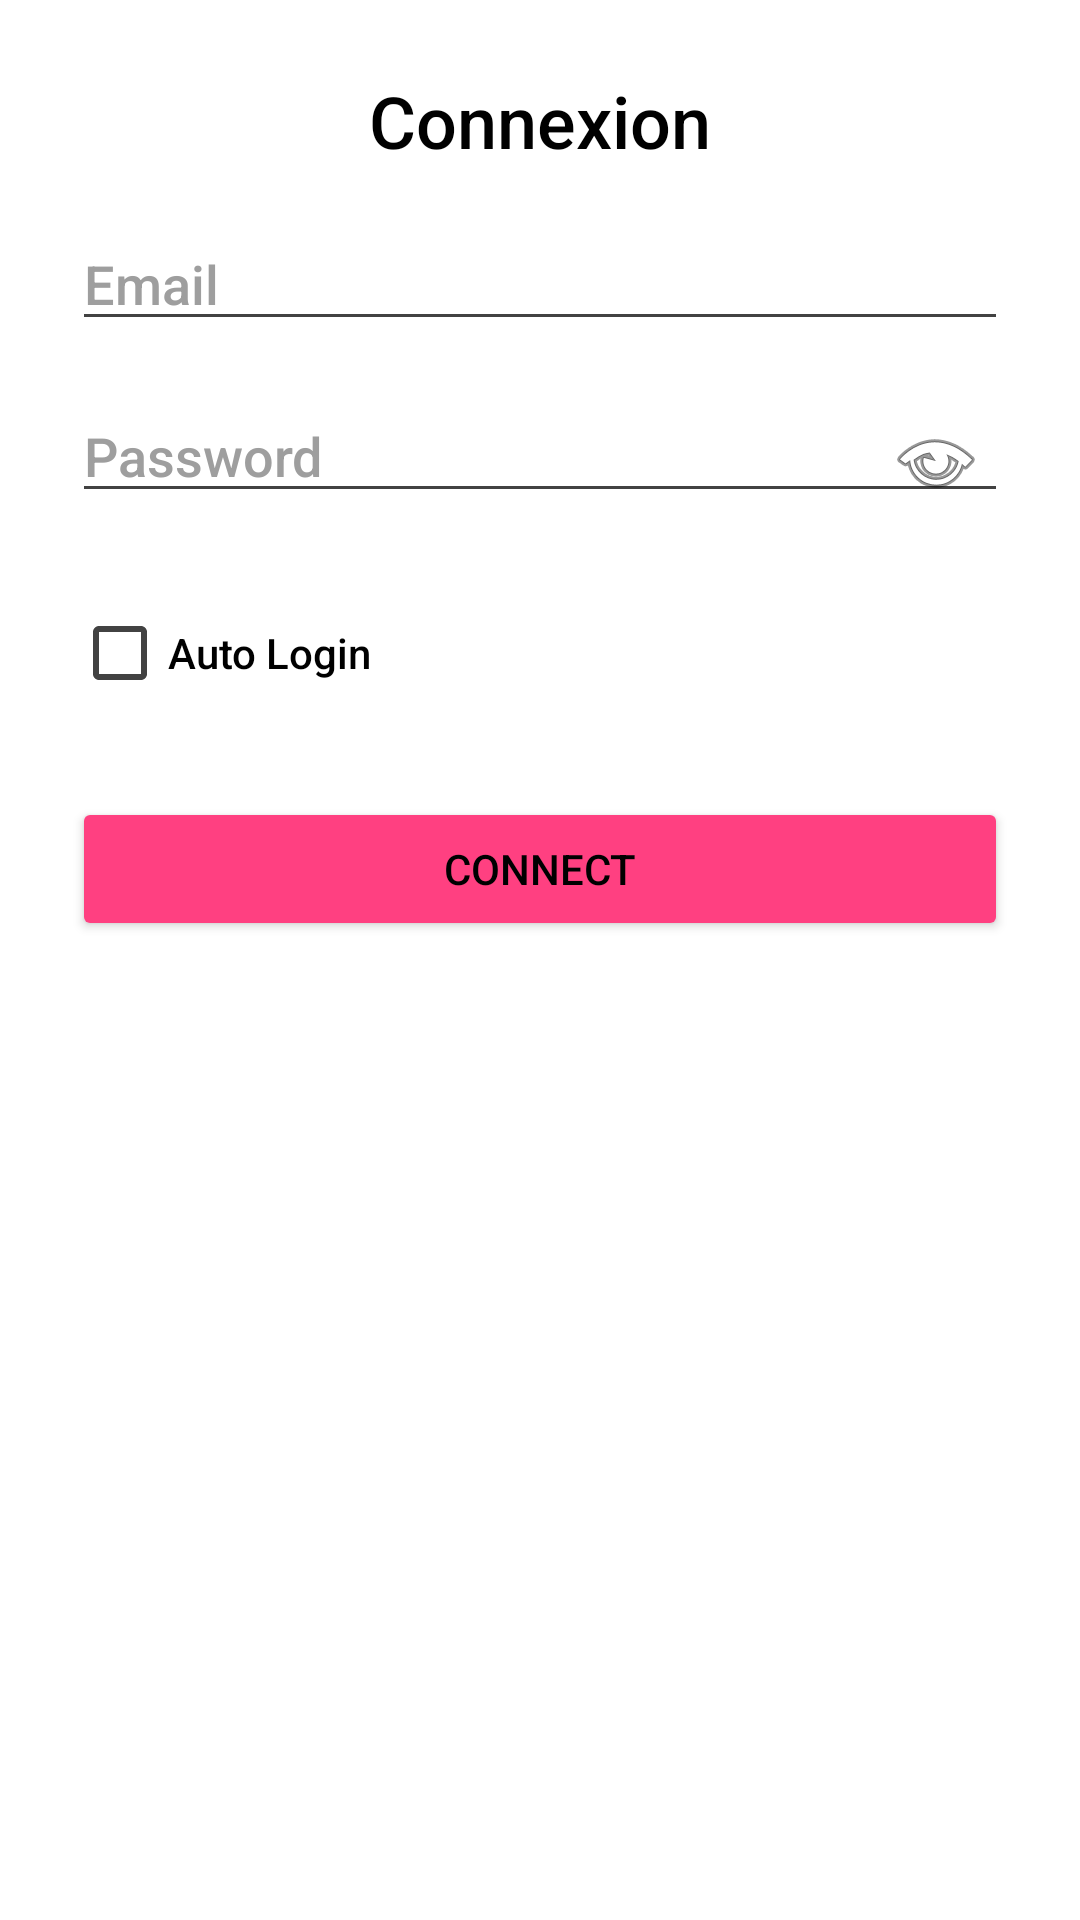

Named icons in this screenshot (1080 x 1920) and their centers, [x,y]:
Show: [930,464]
